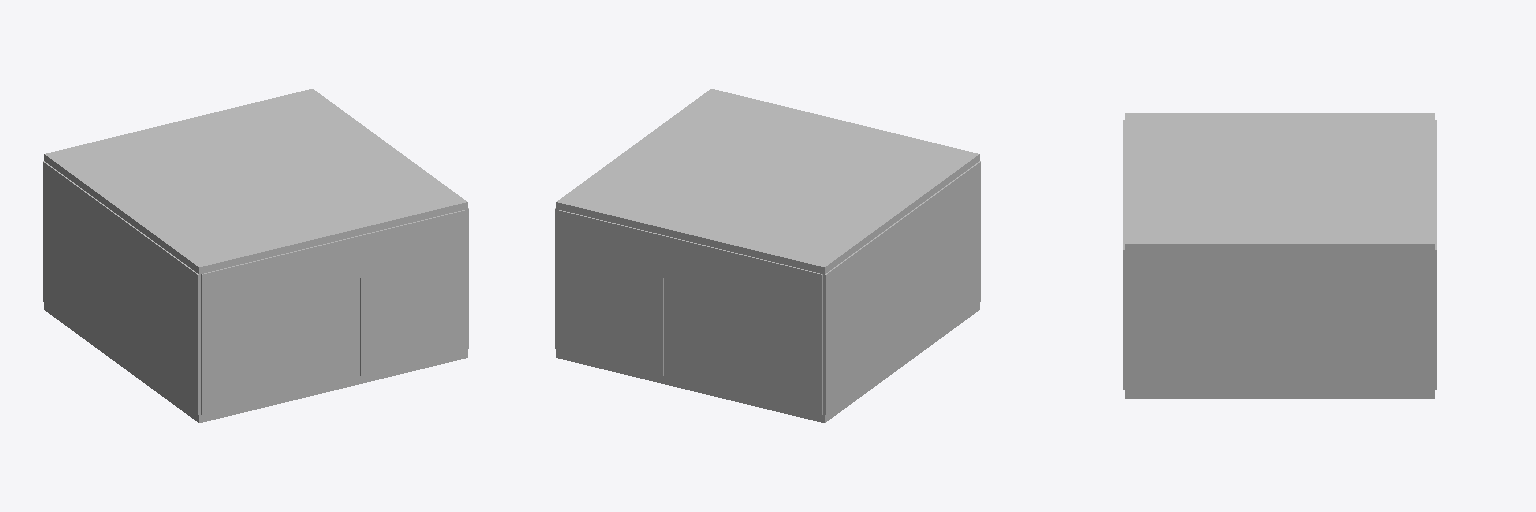
Rendered from 1x1_hotel_room_straight.obj.
3 views of the same model, side by side, from view 1: azimuth 30°, elevation 25°; view 2: azimuth 150°, elevation 25°; view 3: azimuth 270°, elevation 25° (orthographic).
Visible parts, largest first — view 1: UCX_1x1_hotel_room_straight_10, UCX_1x1_hotel_room_straight_09, UCX_1x1_hotel_room_straight_02, UCX_1x1_hotel_room_straight_03, 1x1_hotel_room_straight, UCX_1x1_hotel_room_straight_00, UCX_1x1_hotel_room_straight_04; view 2: UCX_1x1_hotel_room_straight_10, UCX_1x1_hotel_room_straight_09, UCX_1x1_hotel_room_straight_06, UCX_1x1_hotel_room_straight_05, 1x1_hotel_room_straight, UCX_1x1_hotel_room_straight_00, UCX_1x1_hotel_room_straight_07; view 3: UCX_1x1_hotel_room_straight_08, UCX_1x1_hotel_room_straight_10, UCX_1x1_hotel_room_straight_00.
Part boxes in pixels (bbox=[...]): UCX_1x1_hotel_room_straight_10: bbox=[44, 89, 467, 275]; UCX_1x1_hotel_room_straight_09: bbox=[43, 161, 200, 414]; UCX_1x1_hotel_room_straight_02: bbox=[360, 210, 466, 375]; UCX_1x1_hotel_room_straight_03: bbox=[201, 248, 306, 414]; 1x1_hotel_room_straight: bbox=[44, 160, 467, 415]; UCX_1x1_hotel_room_straight_00: bbox=[44, 303, 467, 422]; UCX_1x1_hotel_room_straight_04: bbox=[307, 235, 360, 290]; UCX_1x1_hotel_room_straight_10: bbox=[556, 89, 979, 275]; UCX_1x1_hotel_room_straight_09: bbox=[823, 161, 980, 414]; UCX_1x1_hotel_room_straight_06: bbox=[557, 210, 663, 375]; UCX_1x1_hotel_room_straight_05: bbox=[717, 248, 822, 414]; 1x1_hotel_room_straight: bbox=[556, 161, 978, 415]; UCX_1x1_hotel_room_straight_00: bbox=[556, 303, 979, 422]; UCX_1x1_hotel_room_straight_07: bbox=[663, 235, 716, 290]; UCX_1x1_hotel_room_straight_08: bbox=[1125, 251, 1434, 391]; UCX_1x1_hotel_room_straight_10: bbox=[1125, 113, 1434, 250]; UCX_1x1_hotel_room_straight_00: bbox=[1125, 392, 1434, 398].
Size of the model in its own units: 20.2 by 11.1 by 20.2.